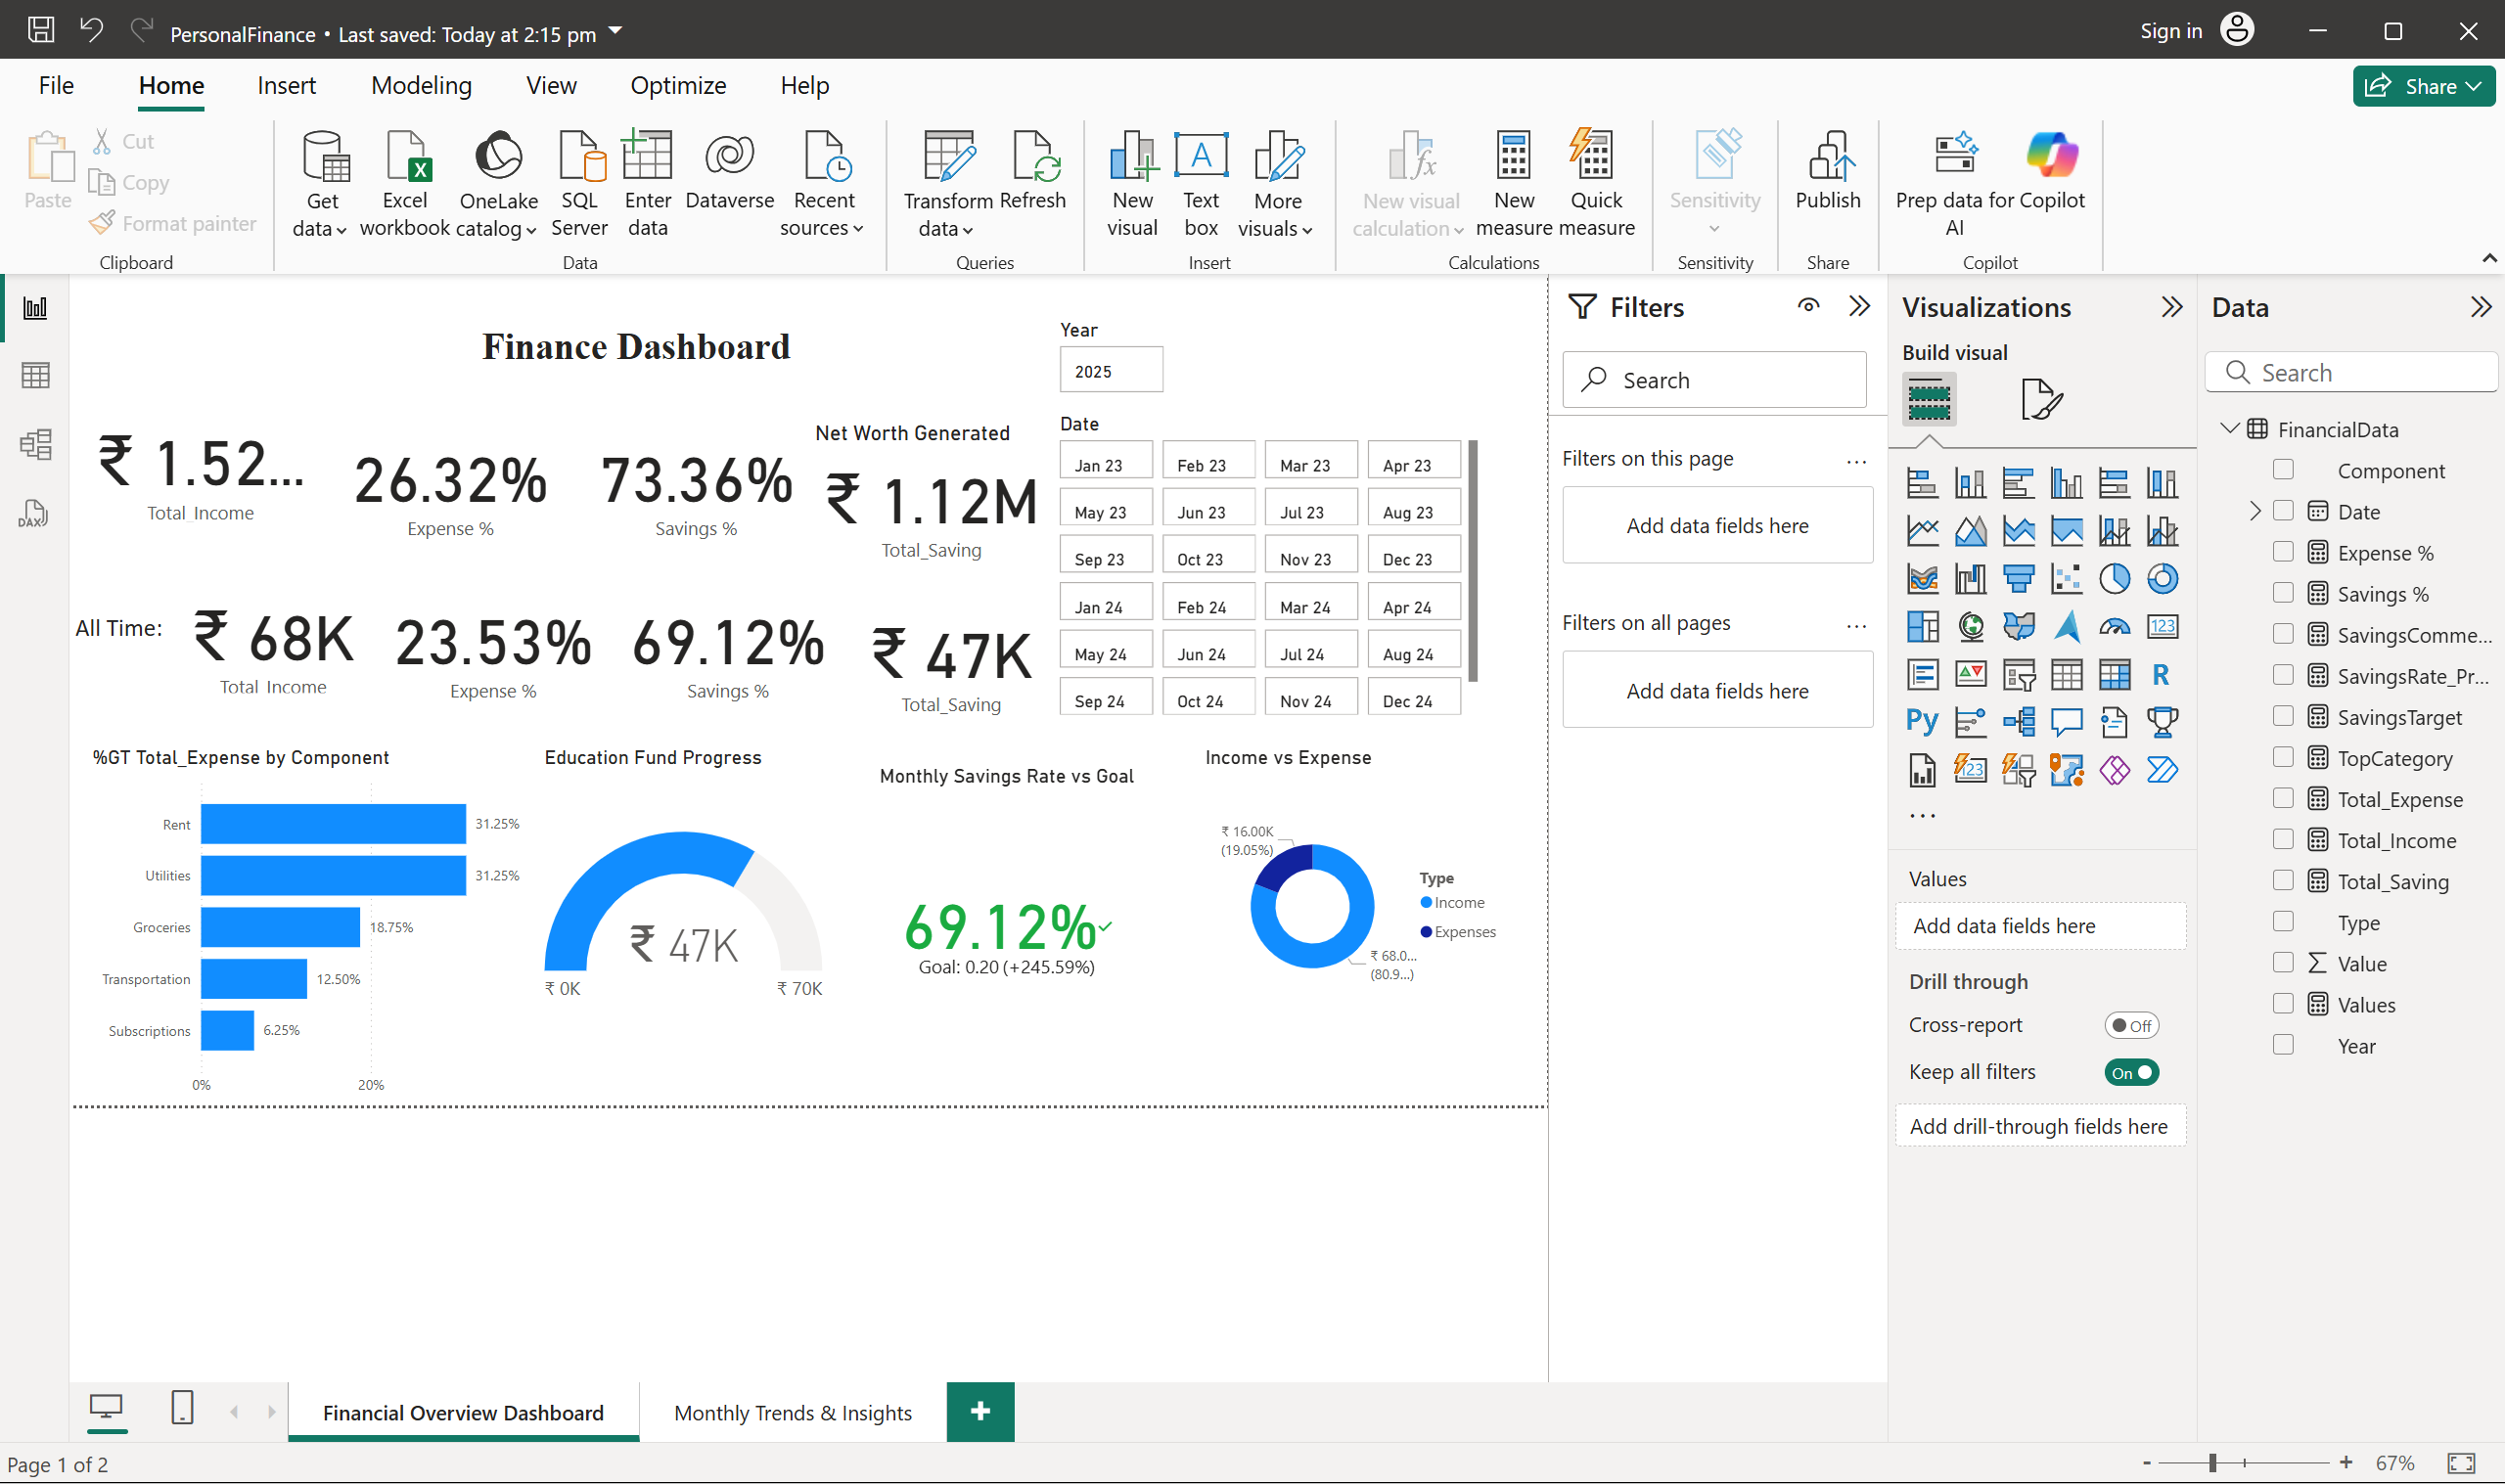

This screenshot's page, from the dashboard's own definition file:
{"tool":"powerbi","page":{"name":"Financial Overview Dashboard","canvas":[1280,720],"ordinal":0},"visuals":[{"type":"card","fields":{"Values":["FinancialData.Total_Income"]},"box":[14.8,115.7,197.2,103.8],"z":0},{"type":"card","fields":{"Values":["FinancialData.Expense %"]},"box":[231.3,127.5,197.2,108.3],"z":1000},{"type":"card","fields":{"Values":["FinancialData.Savings %"]},"box":[444.9,127.5,195.8,108.3],"z":2000},{"type":"card","title":"    Net Worth Generated","fields":{"Values":["FinancialData.Total_Saving"]},"box":[640.6,127.5,212,126],"z":3000},{"type":"advancedSlicerVisual","fields":{"Values":["FinancialData.Year"]},"box":[852.7,38.6,296.6,69.7],"z":4000},{"type":"advancedSlicerVisual","fields":{"Values":["FinancialData.Date"]},"box":[852.7,120.1,372.2,269.9],"z":5000},{"type":"card","fields":{"Values":["FinancialData.Total_Income"]},"box":[83.9,269.9,183.9,97.9],"z":6000},{"type":"card","fields":{"Values":["FinancialData.Expense %"]},"box":[267.8,269.9,197.2,105.3],"z":7000},{"type":"card","fields":{"Values":["FinancialData.Savings %"]},"box":[465,269.9,209.1,105.3],"z":8000},{"type":"card","fields":{"Values":["FinancialData.Total_Saving"]},"box":[674.7,278.8,178,111.2],"z":9000},{"type":"textbox","box":[0,287.7,94.9,47.5],"z":10000},{"type":"textbox","box":[84.5,38.6,642.1,69.7],"z":11000},{"type":"clusteredBarChart","fields":{"Category":["FinancialData.Component"],"Y":["FinancialData.Total_Expense"]},"box":[14.8,409.3,394.5,311.4],"z":12000},{"type":"gauge","title":"Education Fund Progress","fields":{"Y":["FinancialData.Total_Saving"]},"box":[406.3,409.3,250.6,280.3],"z":13000},{"type":"donutChart","title":"Income vs Expense","fields":{"Category":["FinancialData.Type"],"Y":["FinancialData.Values"]},"box":[978.8,409.3,271.4,258],"z":14000},{"type":"kpi","title":"Monthly Savings Rate vs Goal","fields":{"Indicator":["FinancialData.Savings %"],"TrendLine":["FinancialData.Date"],"Goal":["FinancialData.SavingsTarget"]},"box":[695.5,425.6,232.8,280.3],"z":17000}]}

Visuals, with their boxes on the page's 1280x720 design canvas (x1, y1, x2, y2). These are canvas units, not pixel positions in the 2505x1484 screenshot, which may show the page scaled, cropped or inside an application window:
card - FinancialData.Total_Income: locate(15, 116, 212, 220)
card - FinancialData.Expense %: locate(231, 128, 428, 236)
card - FinancialData.Savings %: locate(445, 128, 641, 236)
"    Net Worth Generated" card: locate(641, 128, 853, 254)
advancedSlicerVisual - FinancialData.Year: locate(853, 39, 1149, 108)
advancedSlicerVisual - FinancialData.Date: locate(853, 120, 1225, 390)
card - FinancialData.Total_Income: locate(84, 270, 268, 368)
card - FinancialData.Expense %: locate(268, 270, 465, 375)
card - FinancialData.Savings %: locate(465, 270, 674, 375)
card - FinancialData.Total_Saving: locate(675, 279, 853, 390)
textbox: locate(0, 288, 95, 335)
textbox: locate(84, 39, 727, 108)
clusteredBarChart - FinancialData.Component x FinancialData.Total_Expense: locate(15, 409, 409, 721)
"Education Fund Progress" gauge: locate(406, 409, 657, 690)
"Income vs Expense" donutChart: locate(979, 409, 1250, 667)
"Monthly Savings Rate vs Goal" kpi: locate(696, 426, 928, 706)
